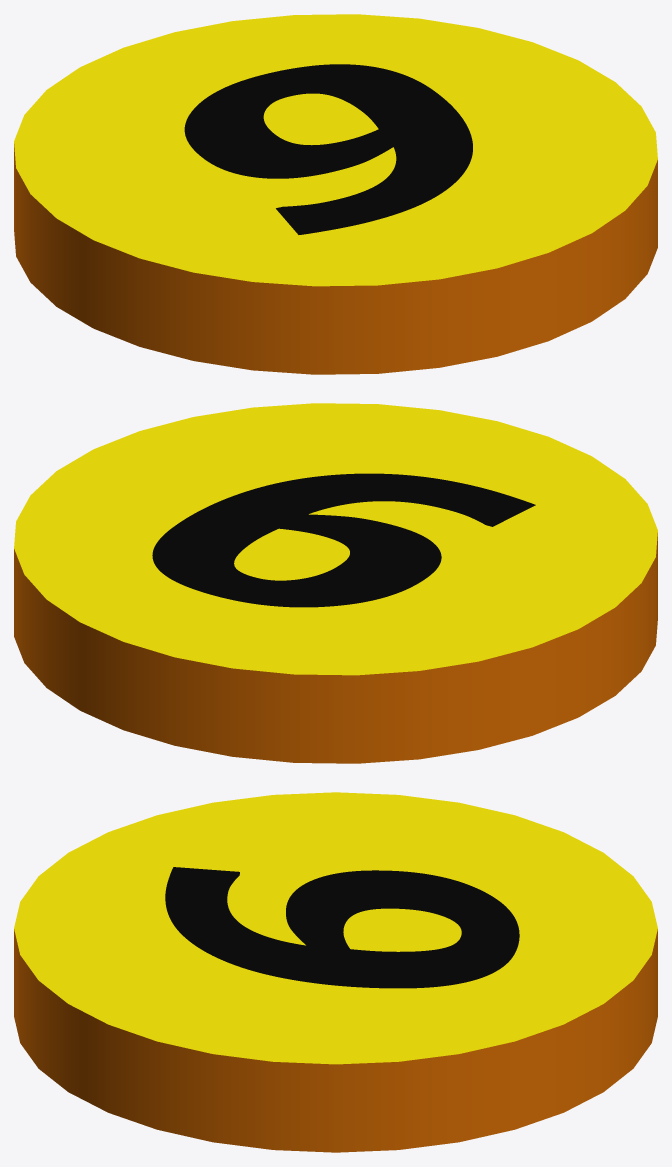
Rendered from nine.fbx.
3 renders of one model, top to bottom at view 1: azimuth 30°, elevation 25°; view 2: azimuth 150°, elevation 25°; view 3: azimuth 270°, elevation 25°, orthographic.
Parts seen in each view (by area): view 1: ทรงกระบอก.007, ช้อความ.007; view 2: ทรงกระบอก.007, ช้อความ.007; view 3: ทรงกระบอก.007, ช้อความ.007.
Part boxes in pixels (bbox=[...]): ทรงกระบอก.007: bbox=[14, 14, 657, 374]; ช้อความ.007: bbox=[184, 64, 472, 234]; ทรงกระบอก.007: bbox=[14, 403, 657, 763]; ช้อความ.007: bbox=[152, 473, 535, 607]; ทรงกระบอก.007: bbox=[14, 792, 657, 1152]; ช้อความ.007: bbox=[165, 867, 519, 988].
Bounding box in the file's own units: 200 × 31.47 × 200.
